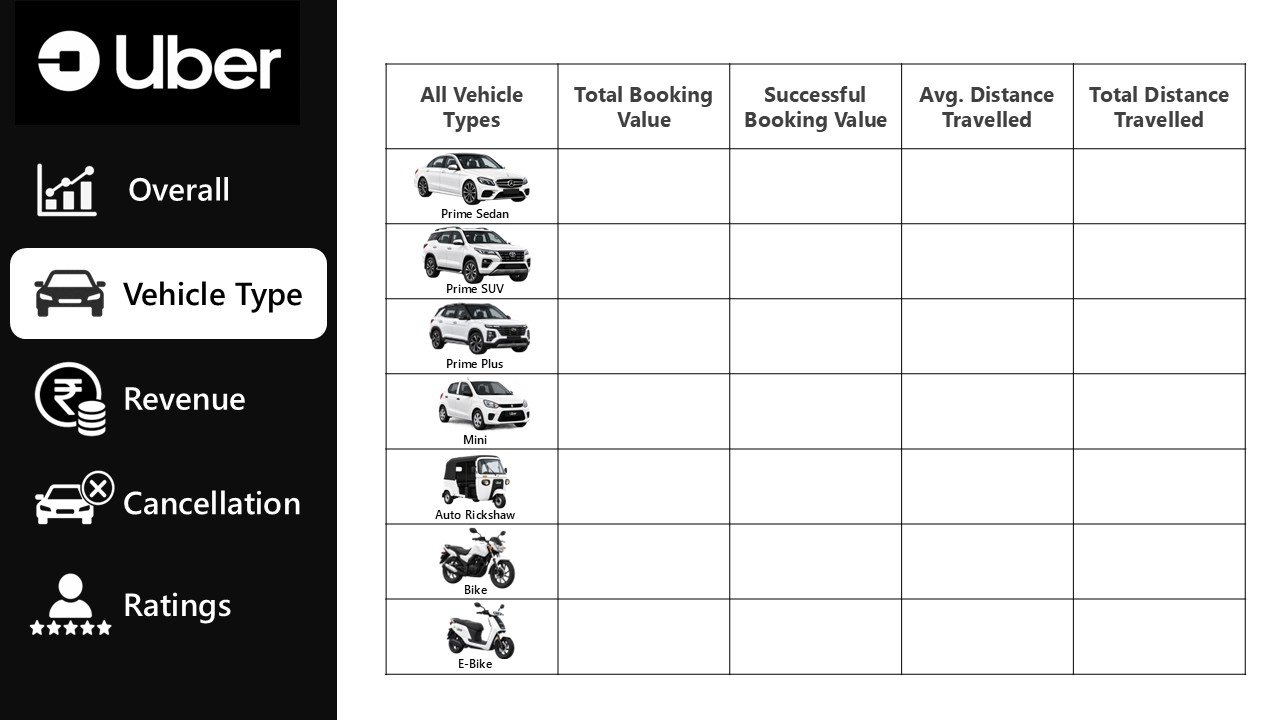

The page's visual inventory and layout, read from the dashboard file:
{"tool":"powerbi","page":{"name":"Vehicle Type","canvas":[1280,720],"ordinal":1},"visuals":[{"type":"actionButton","box":[20,150,300,77.1],"z":0},{"type":"actionButton","box":[20,360,300,77.1],"z":1000},{"type":"actionButton","box":[20,461.4,300,77.1],"z":2000},{"type":"actionButton","box":[20,564.3,300,77.1],"z":3000},{"type":"cardVisual","fields":{"Data":["Sum(Uber.Booking_Value)"]},"box":[568.6,150,142.9,67.1],"z":4000},{"type":"cardVisual","fields":{"Data":["Sum(Uber.Booking_Value)"]},"box":[568.6,217.1,142.9,77.1],"z":5000},{"type":"cardVisual","fields":{"Data":["Sum(Uber.Booking_Value)"]},"box":[568.6,294.3,142.9,77.1],"z":6000},{"type":"cardVisual","fields":{"Data":["Sum(Uber.Booking_Value)"]},"box":[568.6,371.4,142.9,75.7],"z":7000},{"type":"cardVisual","fields":{"Data":["Sum(Uber.Booking_Value)"]},"box":[568.6,447.1,142.9,75.7],"z":8000},{"type":"cardVisual","fields":{"Data":["Sum(Uber.Booking_Value)"]},"box":[568.6,522.9,142.9,70],"z":9000},{"type":"cardVisual","fields":{"Data":["Sum(Uber.Booking_Value)"]},"box":[568.6,592.9,142.9,77.1],"z":10000},{"type":"cardVisual","fields":{"Data":["Sum(Uber.Booking_Value)"]},"box":[742.9,150,142.9,67.1],"z":11000},{"type":"cardVisual","fields":{"Data":["Sum(Uber.Booking_Value)"]},"box":[742.9,217.1,142.9,77.1],"z":12000},{"type":"cardVisual","fields":{"Data":["Sum(Uber.Booking_Value)"]},"box":[742.9,294.3,142.9,77.1],"z":13000},{"type":"cardVisual","fields":{"Data":["Sum(Uber.Booking_Value)"]},"box":[742.9,371.4,142.9,75.7],"z":14000},{"type":"cardVisual","fields":{"Data":["Sum(Uber.Booking_Value)"]},"box":[742.9,447.1,142.9,75.7],"z":15000},{"type":"cardVisual","fields":{"Data":["Sum(Uber.Booking_Value)"]},"box":[742.9,522.9,142.9,70],"z":16000},{"type":"cardVisual","fields":{"Data":["Sum(Uber.Booking_Value)"]},"box":[742.9,592.9,142.9,77.1],"z":17000},{"type":"cardVisual","fields":{"Data":["Avg(Uber.Ride_Distance)"]},"box":[917.1,150,142.9,67.1],"z":18000},{"type":"cardVisual","fields":{"Data":["Avg(Uber.Ride_Distance)"]},"box":[917.1,217.1,142.9,77.1],"z":19000},{"type":"cardVisual","fields":{"Data":["Avg(Uber.Ride_Distance)"]},"box":[917.1,294.3,142.9,77.1],"z":20000},{"type":"cardVisual","fields":{"Data":["Avg(Uber.Ride_Distance)"]},"box":[917.1,371.4,142.9,75.7],"z":21000},{"type":"cardVisual","fields":{"Data":["Avg(Uber.Ride_Distance)"]},"box":[917.1,447.1,142.9,75.7],"z":22000},{"type":"cardVisual","fields":{"Data":["Avg(Uber.Ride_Distance)"]},"box":[917.1,522.9,142.9,70],"z":23000},{"type":"cardVisual","fields":{"Data":["Avg(Uber.Ride_Distance)"]},"box":[917.1,592.9,142.9,77.1],"z":24000},{"type":"cardVisual","fields":{"Data":["Sum(Uber.Ride_Distance)"]},"box":[1085.7,150,142.9,67.1],"z":25000},{"type":"cardVisual","fields":{"Data":["Sum(Uber.Ride_Distance)"]},"box":[1085.7,217.1,142.9,77.1],"z":26000},{"type":"cardVisual","fields":{"Data":["Sum(Uber.Ride_Distance)"]},"box":[1085.7,294.3,142.9,77.1],"z":27000},{"type":"cardVisual","fields":{"Data":["Sum(Uber.Ride_Distance)"]},"box":[1085.7,371.4,142.9,75.7],"z":28000},{"type":"cardVisual","fields":{"Data":["Sum(Uber.Ride_Distance)"]},"box":[1085.7,447.1,142.9,75.7],"z":29000},{"type":"cardVisual","fields":{"Data":["Sum(Uber.Ride_Distance)"]},"box":[1085.7,522.9,142.9,70],"z":30000},{"type":"cardVisual","fields":{"Data":["Sum(Uber.Ride_Distance)"]},"box":[1085.7,592.9,142.9,77.1],"z":31000}]}

Visuals, with their boxes on the page's 1280x720 design canvas (x1, y1, x2, y2). These are canvas units, not pixel positions in the 1280x720 screenshot, which may show the page scaled, cropped or inside an application window:
actionButton: <region>20, 150, 320, 227</region>
actionButton: <region>20, 360, 320, 437</region>
actionButton: <region>20, 461, 320, 538</region>
actionButton: <region>20, 564, 320, 641</region>
cardVisual - Sum(Uber.Booking_Value): <region>569, 150, 712, 217</region>
cardVisual - Sum(Uber.Booking_Value): <region>569, 217, 712, 294</region>
cardVisual - Sum(Uber.Booking_Value): <region>569, 294, 712, 371</region>
cardVisual - Sum(Uber.Booking_Value): <region>569, 371, 712, 447</region>
cardVisual - Sum(Uber.Booking_Value): <region>569, 447, 712, 523</region>
cardVisual - Sum(Uber.Booking_Value): <region>569, 523, 712, 593</region>
cardVisual - Sum(Uber.Booking_Value): <region>569, 593, 712, 670</region>
cardVisual - Sum(Uber.Booking_Value): <region>743, 150, 886, 217</region>
cardVisual - Sum(Uber.Booking_Value): <region>743, 217, 886, 294</region>
cardVisual - Sum(Uber.Booking_Value): <region>743, 294, 886, 371</region>
cardVisual - Sum(Uber.Booking_Value): <region>743, 371, 886, 447</region>
cardVisual - Sum(Uber.Booking_Value): <region>743, 447, 886, 523</region>
cardVisual - Sum(Uber.Booking_Value): <region>743, 523, 886, 593</region>
cardVisual - Sum(Uber.Booking_Value): <region>743, 593, 886, 670</region>
cardVisual - Avg(Uber.Ride_Distance): <region>917, 150, 1060, 217</region>
cardVisual - Avg(Uber.Ride_Distance): <region>917, 217, 1060, 294</region>
cardVisual - Avg(Uber.Ride_Distance): <region>917, 294, 1060, 371</region>
cardVisual - Avg(Uber.Ride_Distance): <region>917, 371, 1060, 447</region>
cardVisual - Avg(Uber.Ride_Distance): <region>917, 447, 1060, 523</region>
cardVisual - Avg(Uber.Ride_Distance): <region>917, 523, 1060, 593</region>
cardVisual - Avg(Uber.Ride_Distance): <region>917, 593, 1060, 670</region>
cardVisual - Sum(Uber.Ride_Distance): <region>1086, 150, 1229, 217</region>
cardVisual - Sum(Uber.Ride_Distance): <region>1086, 217, 1229, 294</region>
cardVisual - Sum(Uber.Ride_Distance): <region>1086, 294, 1229, 371</region>
cardVisual - Sum(Uber.Ride_Distance): <region>1086, 371, 1229, 447</region>
cardVisual - Sum(Uber.Ride_Distance): <region>1086, 447, 1229, 523</region>
cardVisual - Sum(Uber.Ride_Distance): <region>1086, 523, 1229, 593</region>
cardVisual - Sum(Uber.Ride_Distance): <region>1086, 593, 1229, 670</region>
